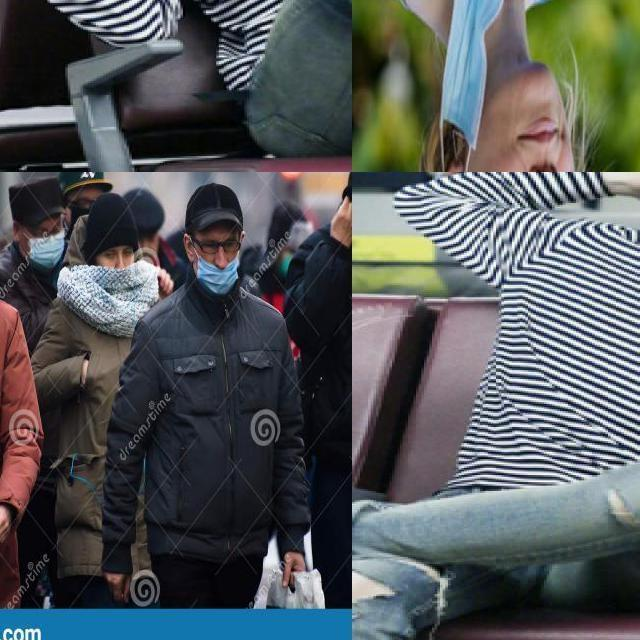hairnet: (196, 252, 241, 295)
